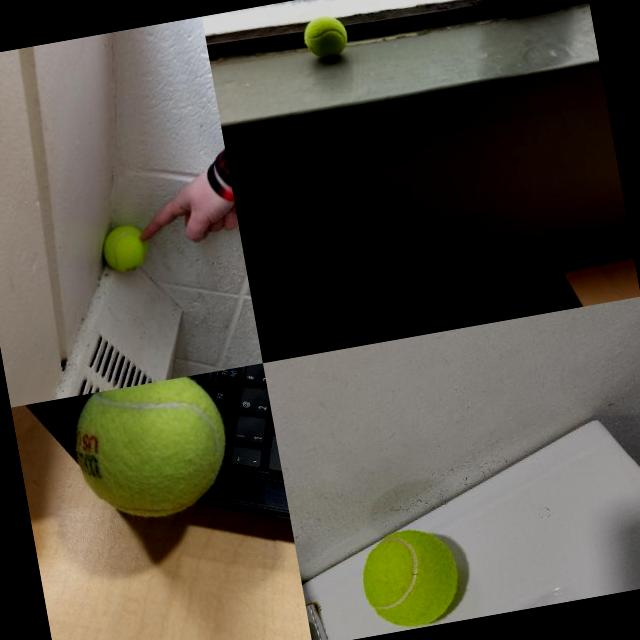tennis-ball: (62, 371, 240, 531), (354, 522, 466, 634), (98, 222, 151, 274), (300, 12, 350, 62)
